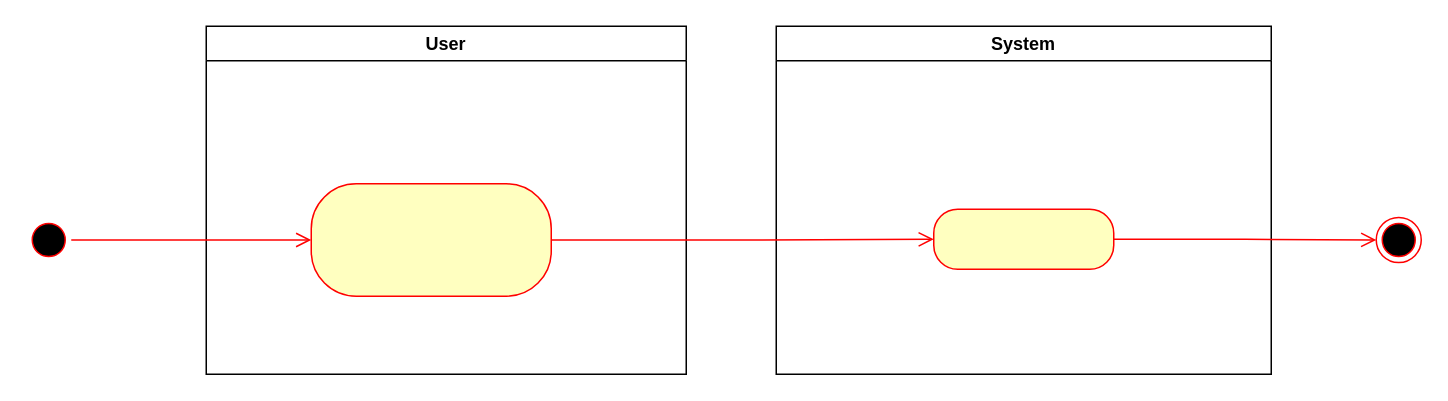
This 1448x401 diagram has some shape labels left out. The centre of each missing label's shape, as x and y in pixels:
(1) On "left menu" click " Advertising ": (430,239)
(2) Load " List Advertising View ": (1023,238)
